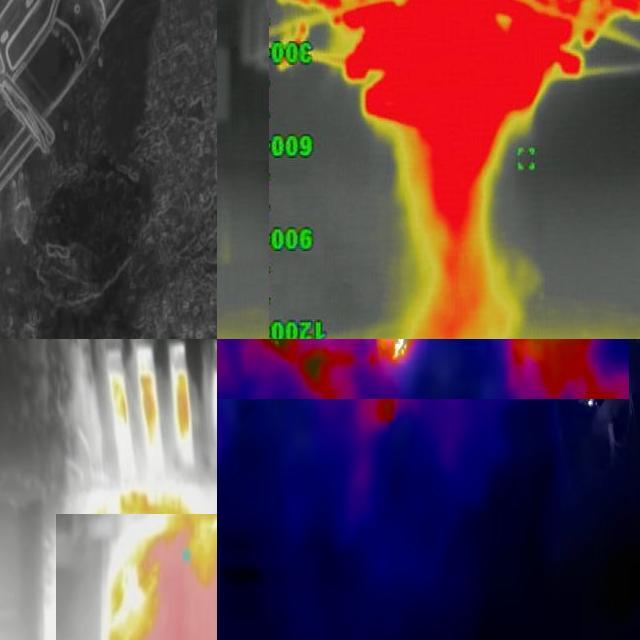fire: (333, 1, 640, 342), (57, 493, 216, 640)
